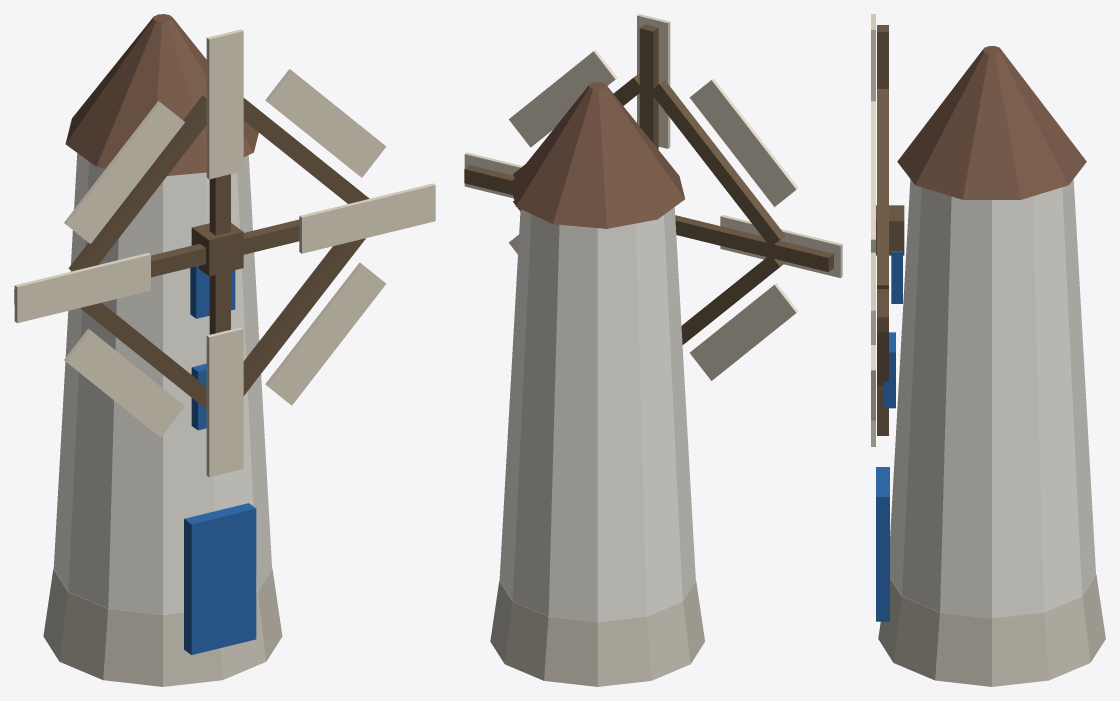
The model's file is loc_sa_windmill.glb.
3 views of the same model, side by side, from view 1: azimuth 30°, elevation 25°; view 2: azimuth 150°, elevation 25°; view 3: azimuth 270°, elevation 25° (orthographic). The views are drawn at different scales.
Parts seen in each view (by area): view 1: Cone.001, Cone, Cone.002, door, cloth_2, cloth_6, cloth_3, cloth_7, cloth_4, cloth_0, cloth_5, cloth_1 (+11 smaller); view 2: Cone.001, Cone.002, Cone, cloth_3, cloth_5, arm_3, cloth_1, arm_4, arm_2, arm_5, cloth_4, cloth_2 (+2 smaller); view 3: Cone.001, Cone.002, Cone, arm_1, door, hub, arm_2, cloth_1, window_a, window_b, arm_7, arm_0 (+4 smaller).
Boxes of the visible parts, x1,y1,x2,y2 form: Cone.001: (53, 153, 271, 614); Cone: (43, 568, 282, 686); Cone.002: (65, 14, 258, 175); door: (184, 503, 256, 654); cloth_2: (206, 29, 243, 179); cloth_6: (206, 327, 243, 477); cloth_3: (64, 101, 184, 243); cloth_7: (265, 262, 386, 405); cloth_4: (14, 252, 150, 323); cloth_0: (299, 183, 435, 253); cloth_5: (64, 328, 184, 437); cloth_1: (265, 69, 386, 177); Cone.001: (499, 207, 695, 622); Cone.002: (510, 82, 684, 228); Cone: (490, 580, 704, 686); cloth_3: (689, 78, 798, 206); cloth_5: (690, 283, 798, 380); arm_3: (651, 80, 785, 246); cloth_1: (509, 49, 617, 147); arm_4: (675, 215, 833, 271); arm_2: (639, 24, 658, 149); arm_5: (681, 257, 785, 344); cloth_4: (720, 215, 842, 277); cloth_2: (637, 14, 670, 148); Cone.001: (890, 179, 1095, 618); Cone.002: (897, 46, 1086, 199); Cone: (878, 574, 1105, 686); arm_1: (877, 89, 888, 288); door: (876, 467, 889, 621); hub: (876, 205, 904, 255); arm_2: (877, 25, 888, 88); cloth_1: (871, 101, 875, 252); window_a: (884, 332, 895, 408); window_b: (891, 251, 902, 303); arm_7: (877, 332, 888, 385); arm_0: (877, 289, 888, 332).
Bounding box in the file's own units: 1.94 × 2.87 × 0.99.
